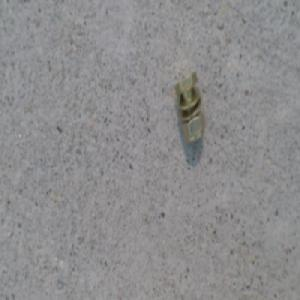BoltNutSet: (174, 71, 203, 145)
